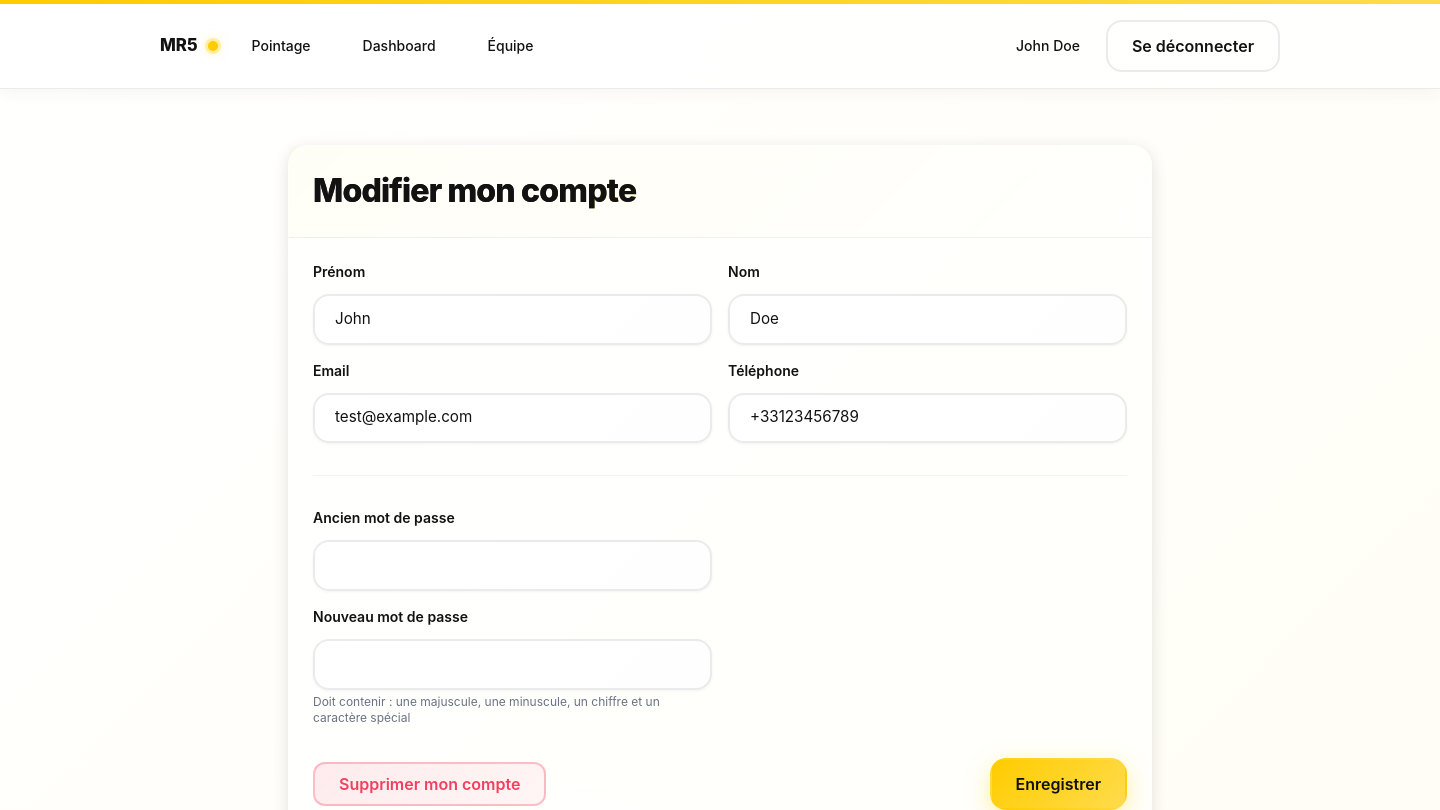
AccountPage Component › should handle API error when updating profile
This screenshot has width=1440, height=810.
Expected: the field showing "John" below "Prénom" is shown, [313,294,712,344]
Click the button "Enregistrer" at {"x": 1058, "y": 784}, box [990,758,1127,809]
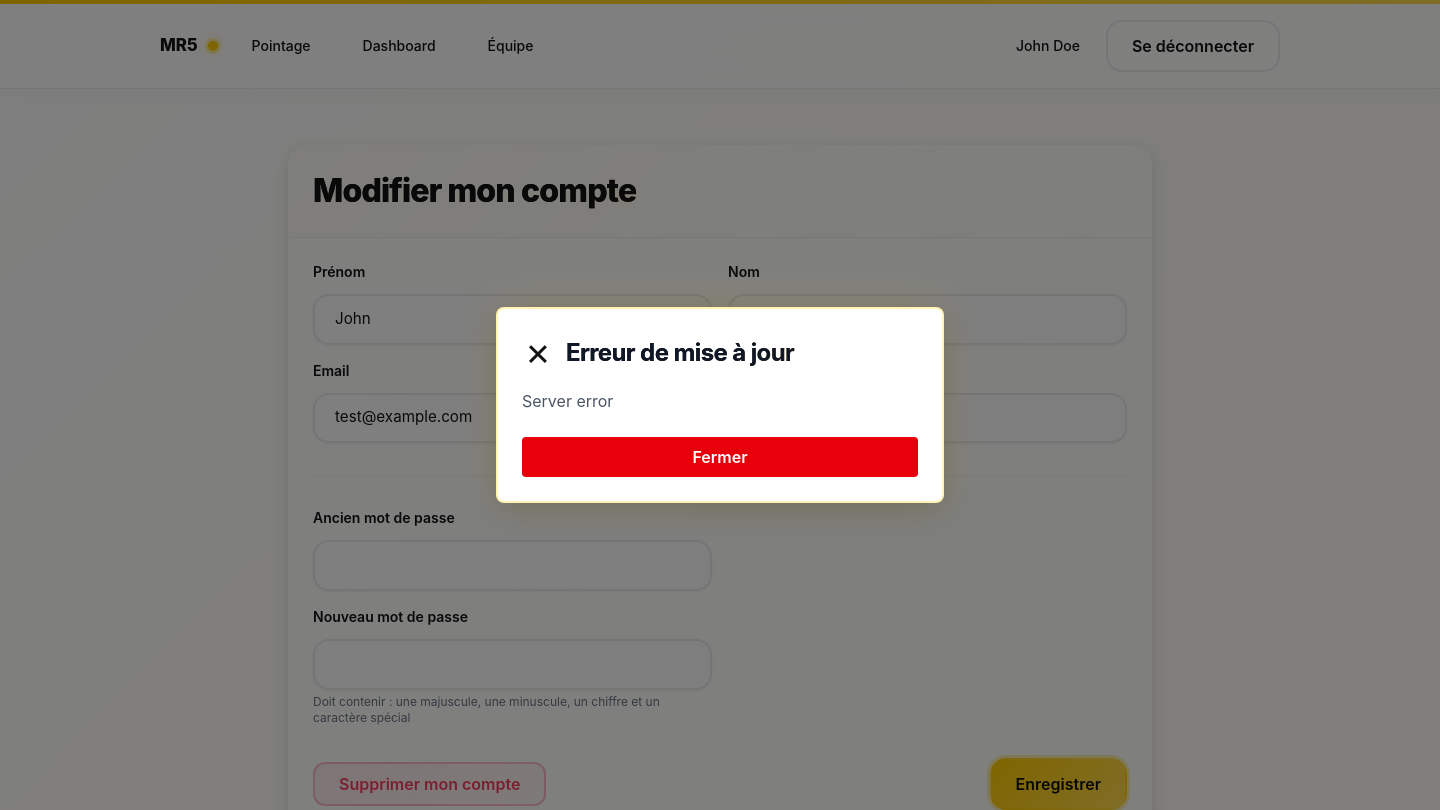
Result: the heading "Erreur de mise à jour" is shown at [566,336,794,370]
Result: the text "Server error" is shown at [522,391,613,411]
